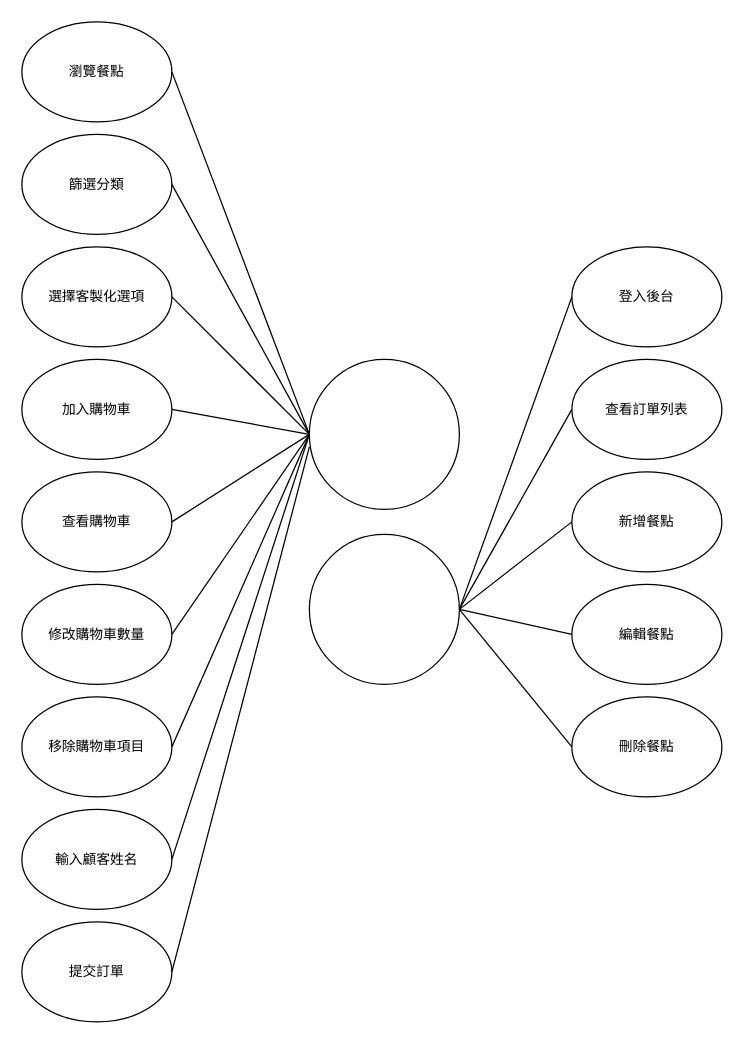
The diagram is 744 pixels wide and 1044 high, and some of its shapes have lost their labels. Here are the shapes that lost their labels. From the top down, the centre of each, then its label:
pixel 383 433: 顧客 (Customer)
pixel 383 608: 管理者 (Admin)
